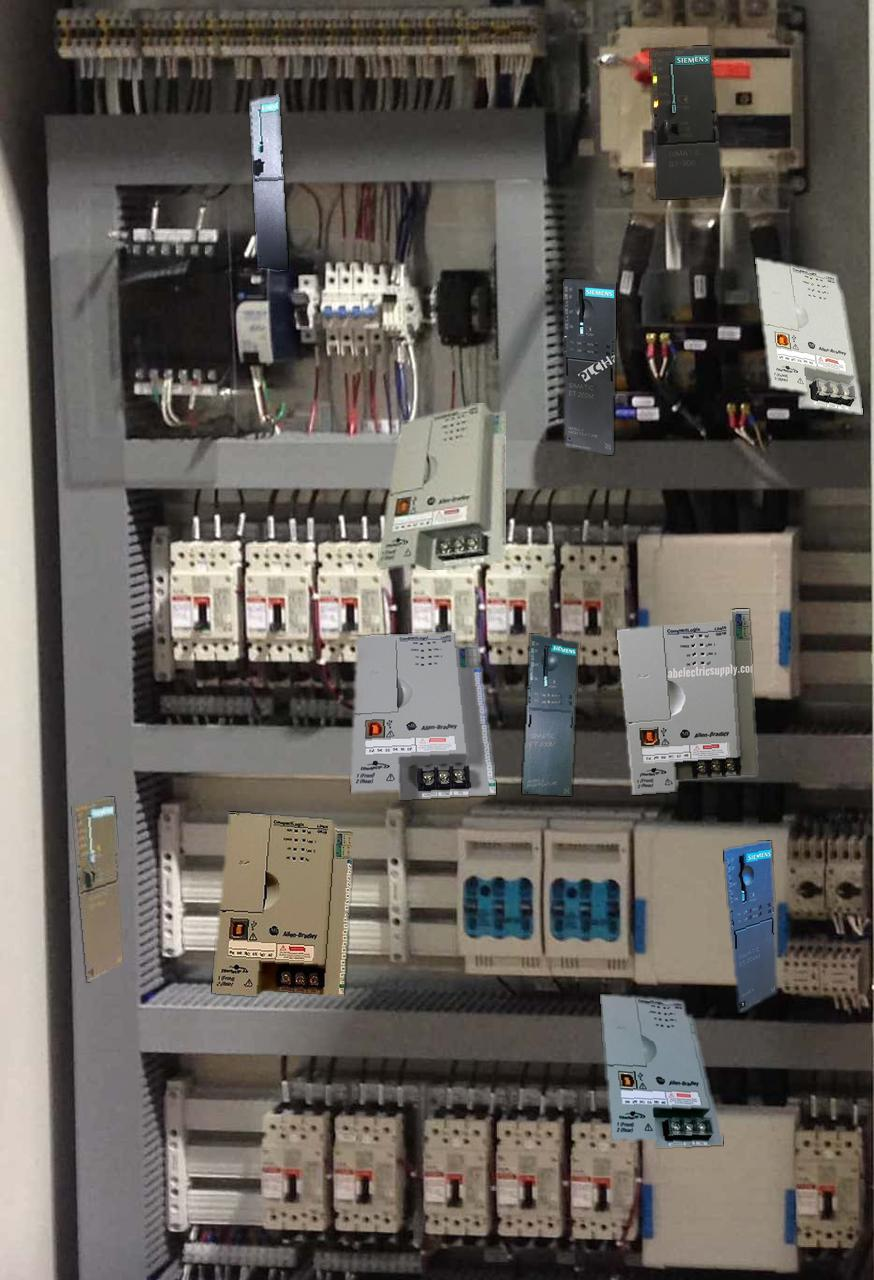AllenBradley: (617, 609, 756, 794), (212, 812, 352, 995), (351, 632, 495, 799), (378, 403, 505, 569), (600, 994, 722, 1146), (755, 257, 862, 414)
Siemens: (650, 46, 723, 199), (73, 797, 123, 981), (250, 94, 288, 270)
